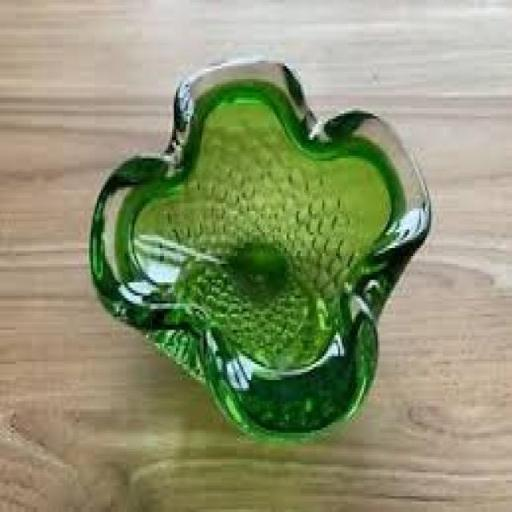glass: (75, 50, 442, 450)
